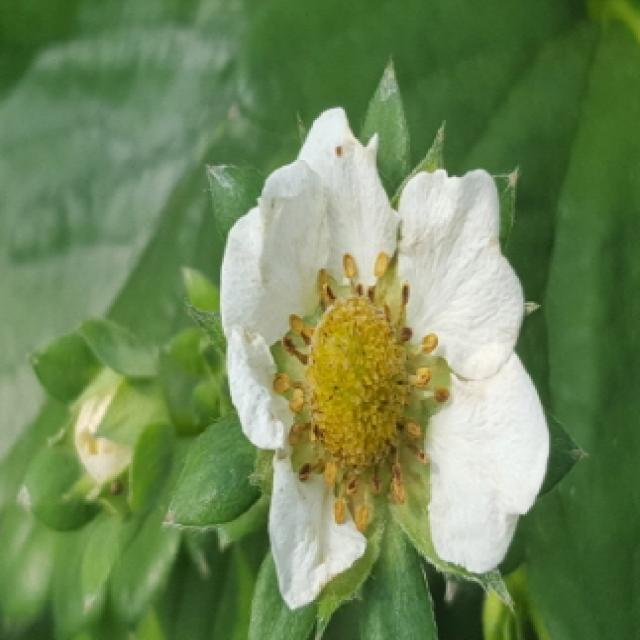Blossom Blight: (270, 246, 454, 532)
